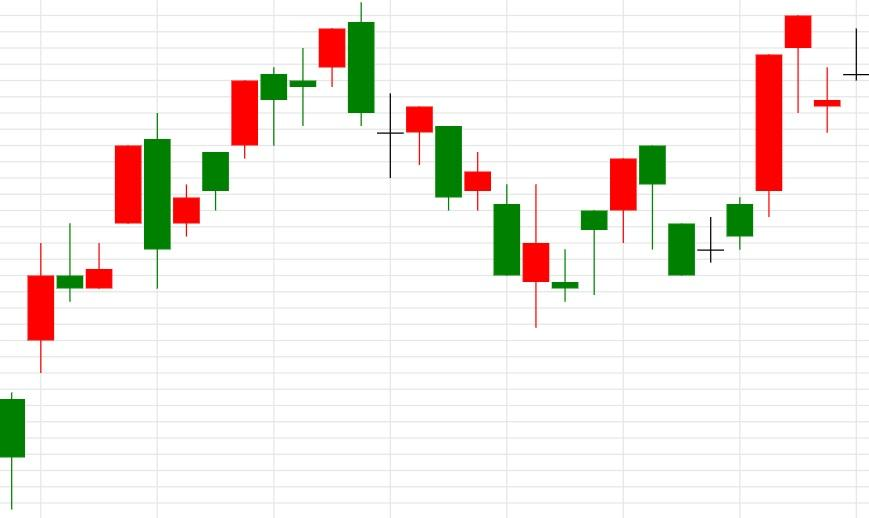bearish_engulfing_fall: (143, 1, 375, 287)
hanging_man_fall: (667, 14, 812, 277)
